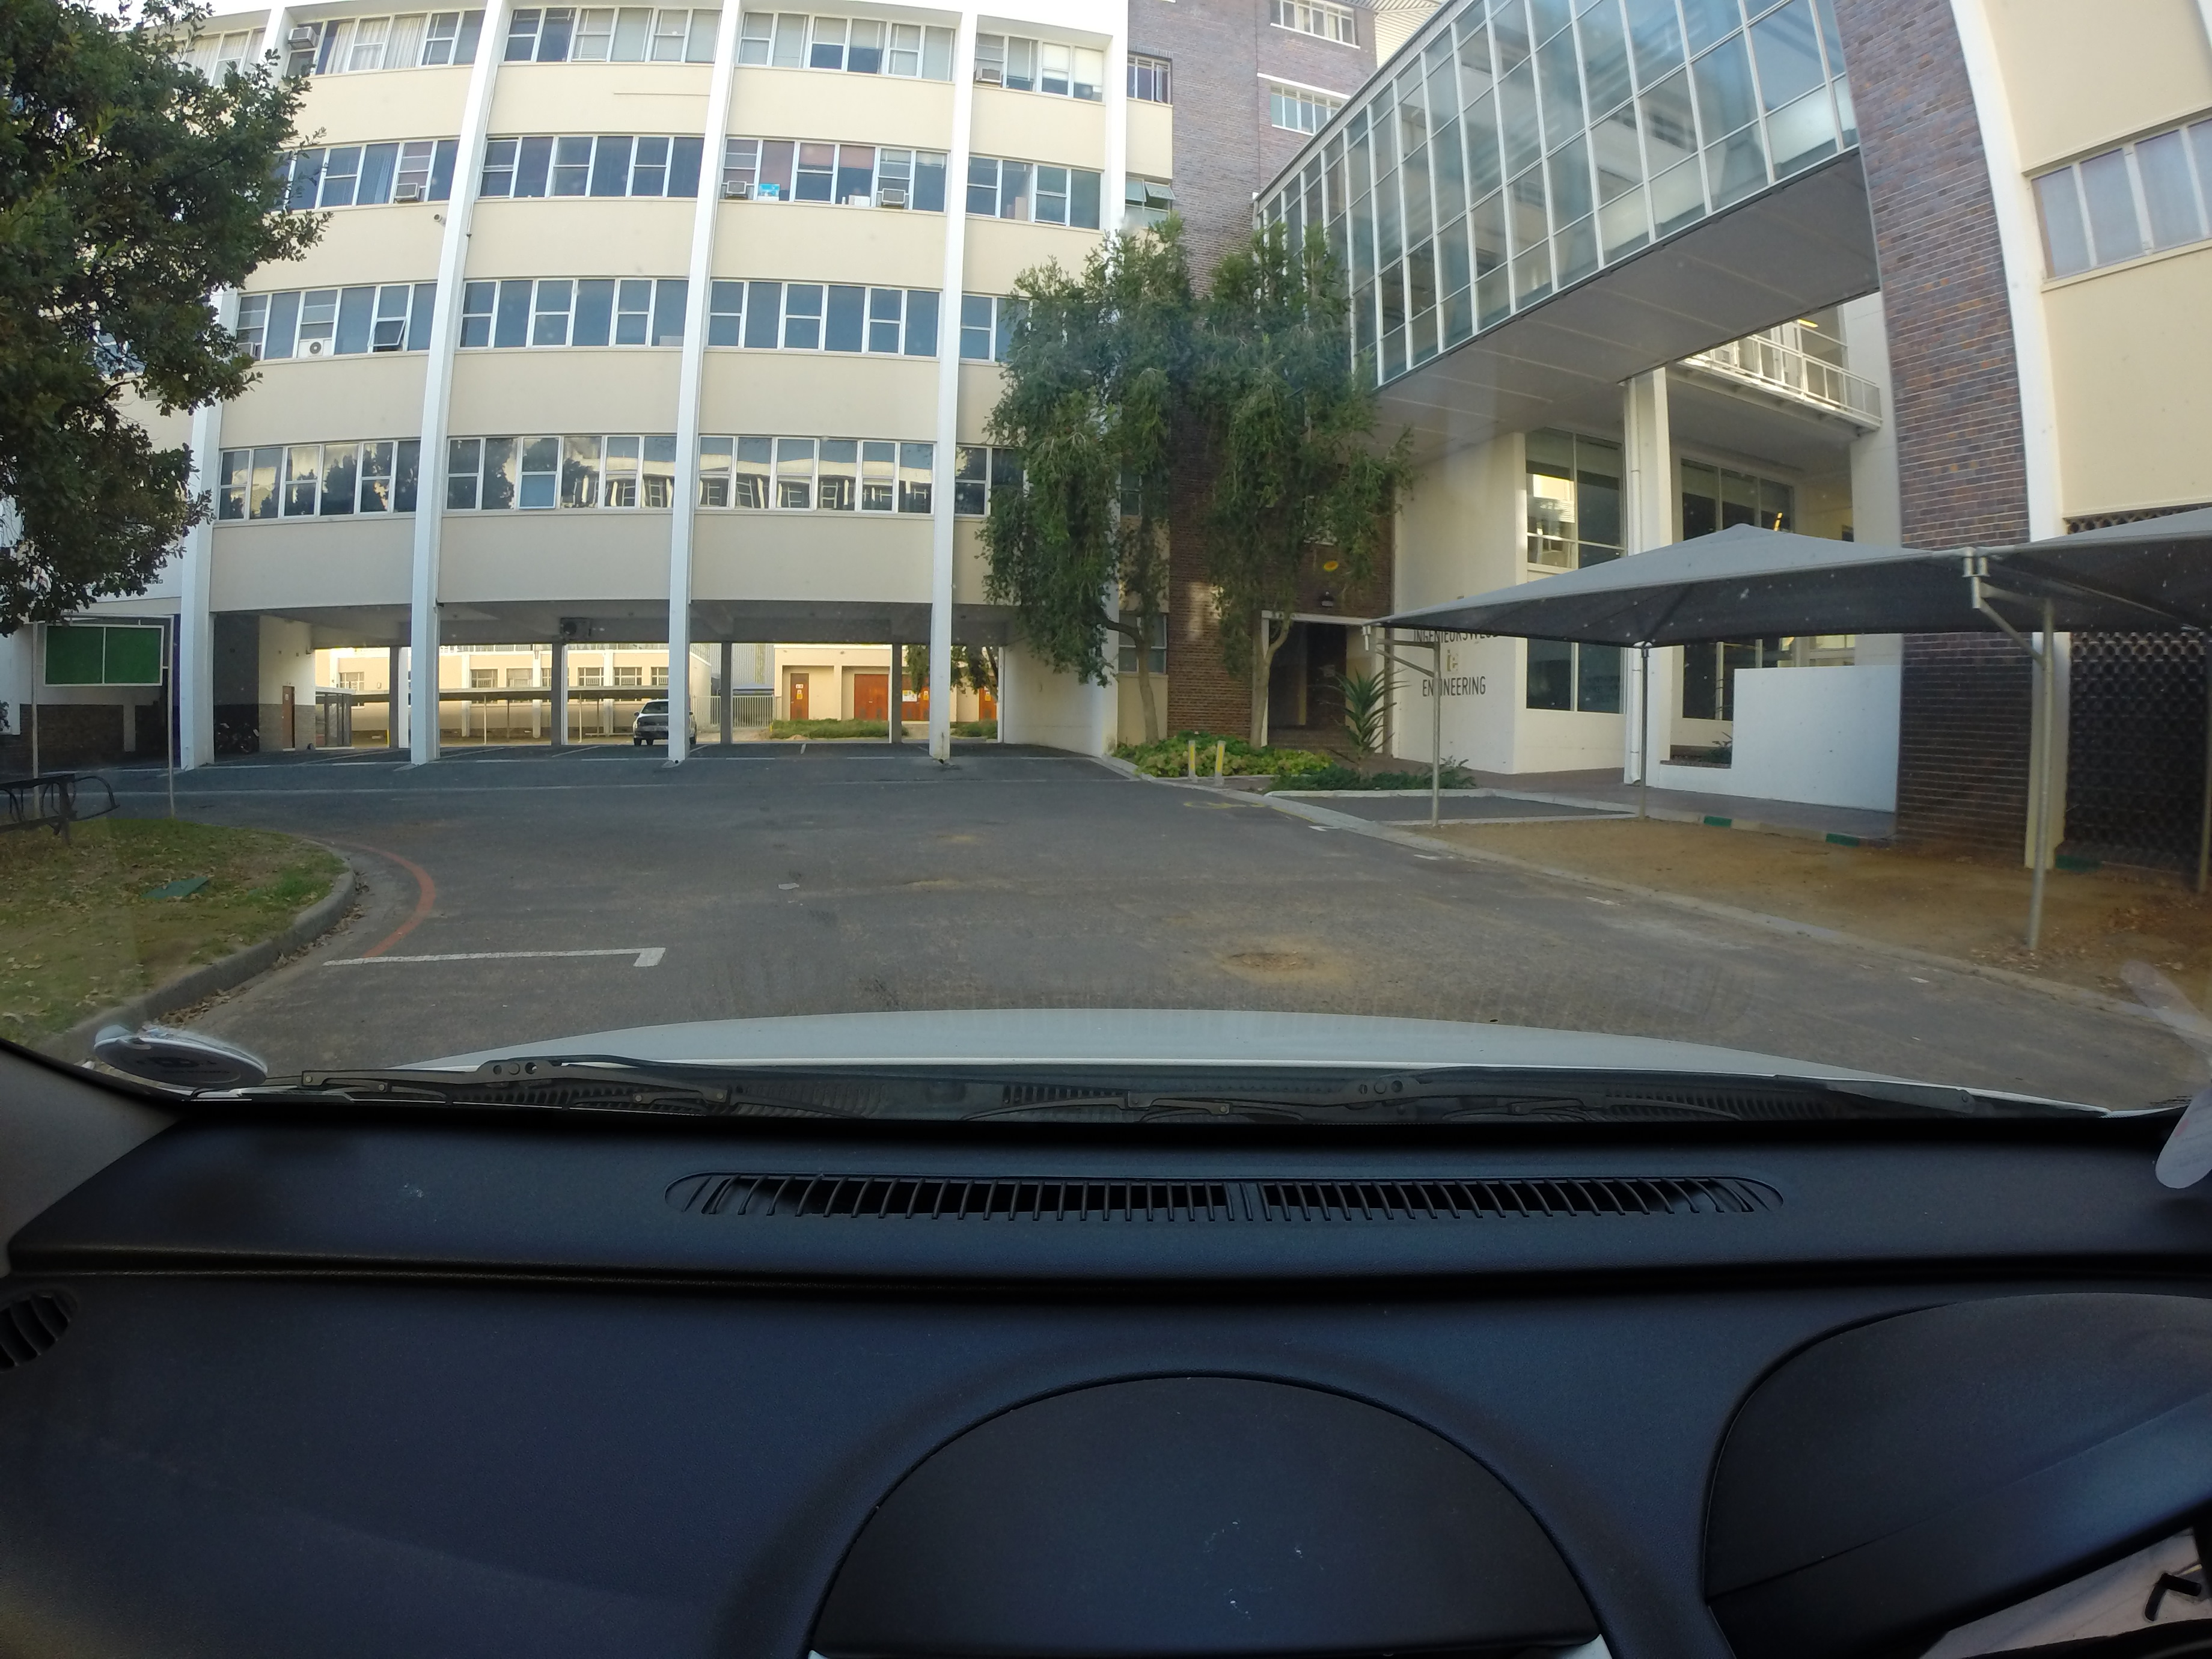pothole: (1200, 939, 1345, 981)
